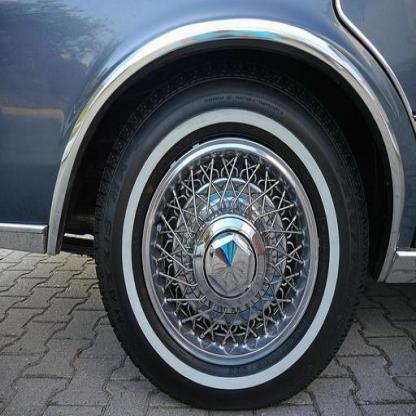Tire: (93, 60, 367, 412)
